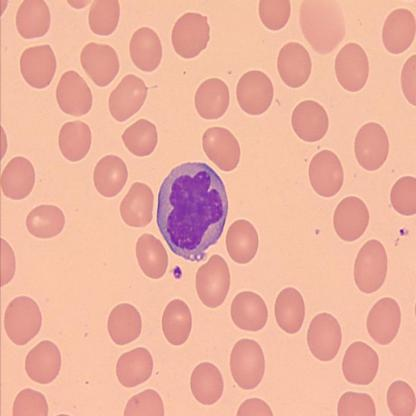Atypical lymphocyte: (154, 158, 232, 262)
